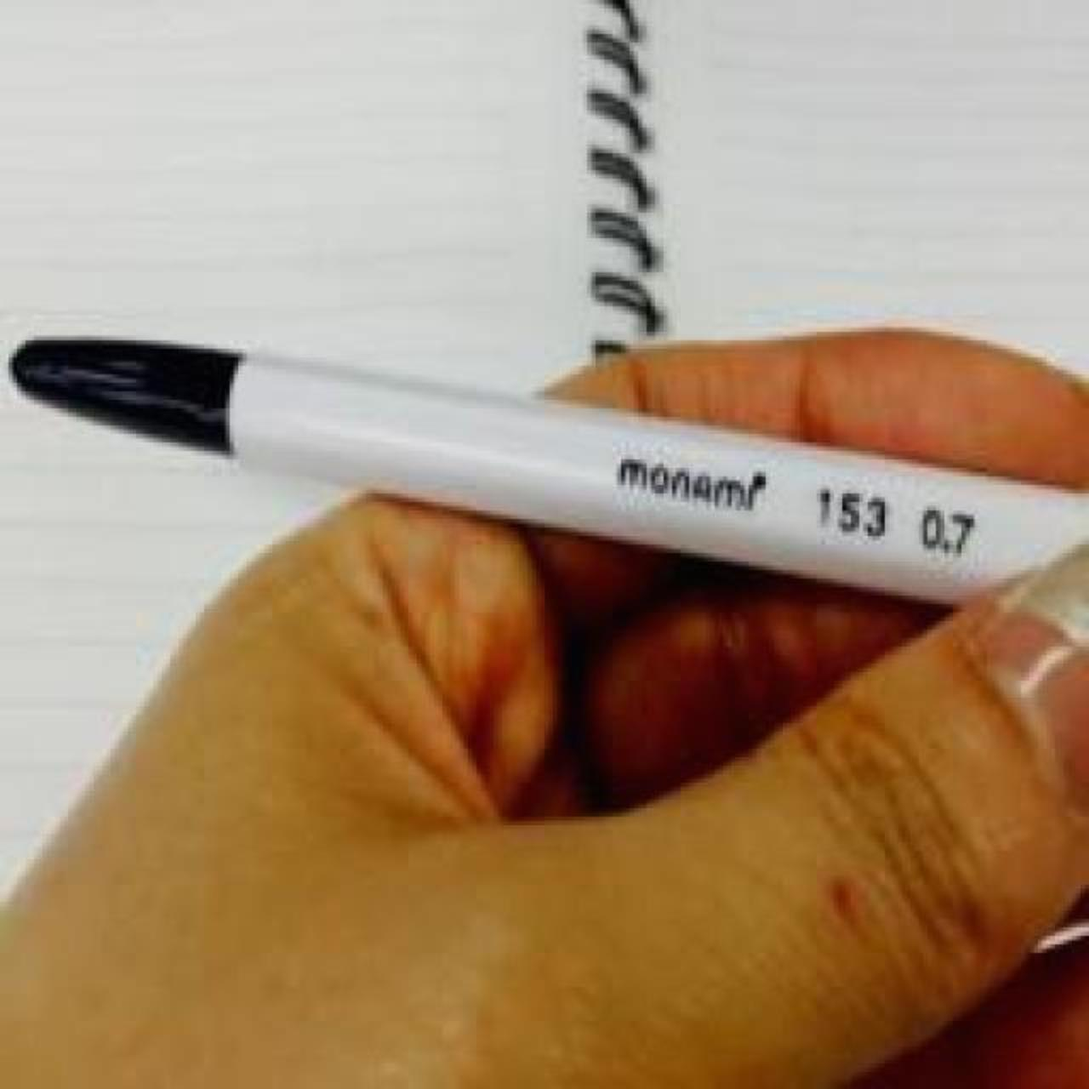pen: (3, 318, 1089, 630)
